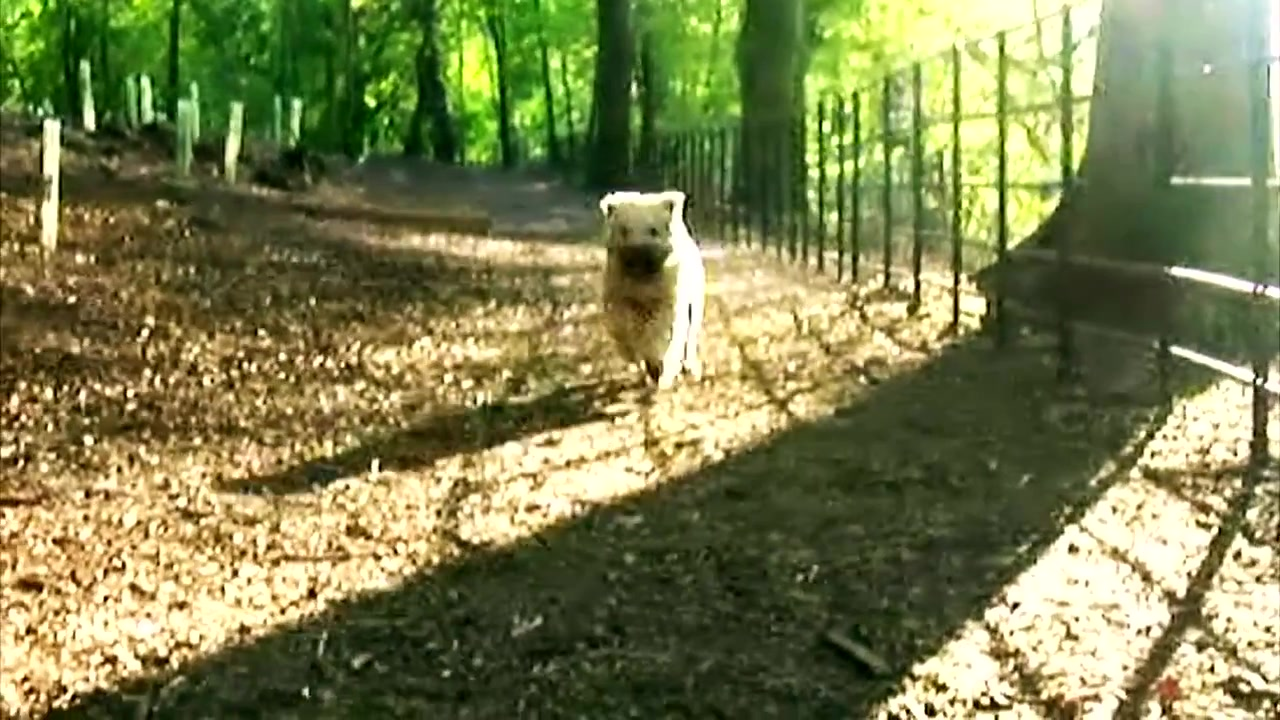dog: (596, 189, 708, 385)
